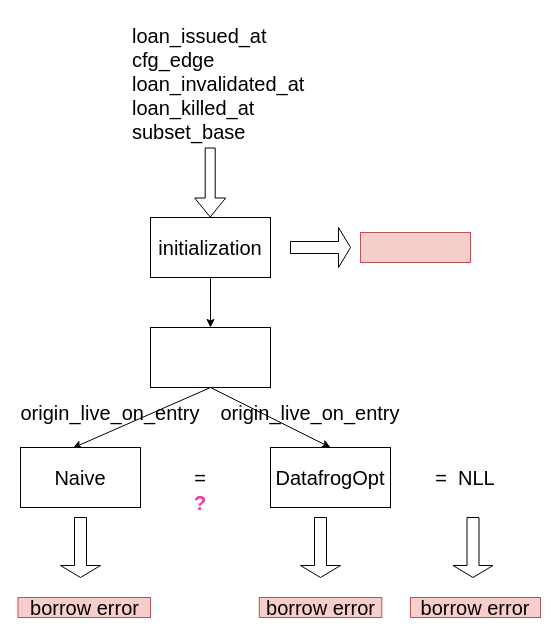
Image size: 558x636. Some labels were removed from this diagram. Each missing label, with the centre of its shape:
liveness: point (210, 357)
move_error: point (415, 247)
